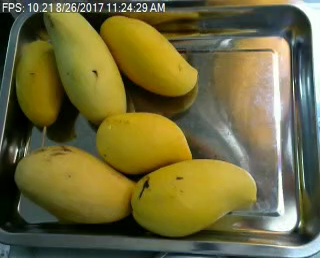Mango: (42, 1, 126, 123), (127, 158, 257, 235), (16, 144, 137, 221), (99, 15, 197, 97), (93, 114, 191, 172), (15, 39, 65, 125)
